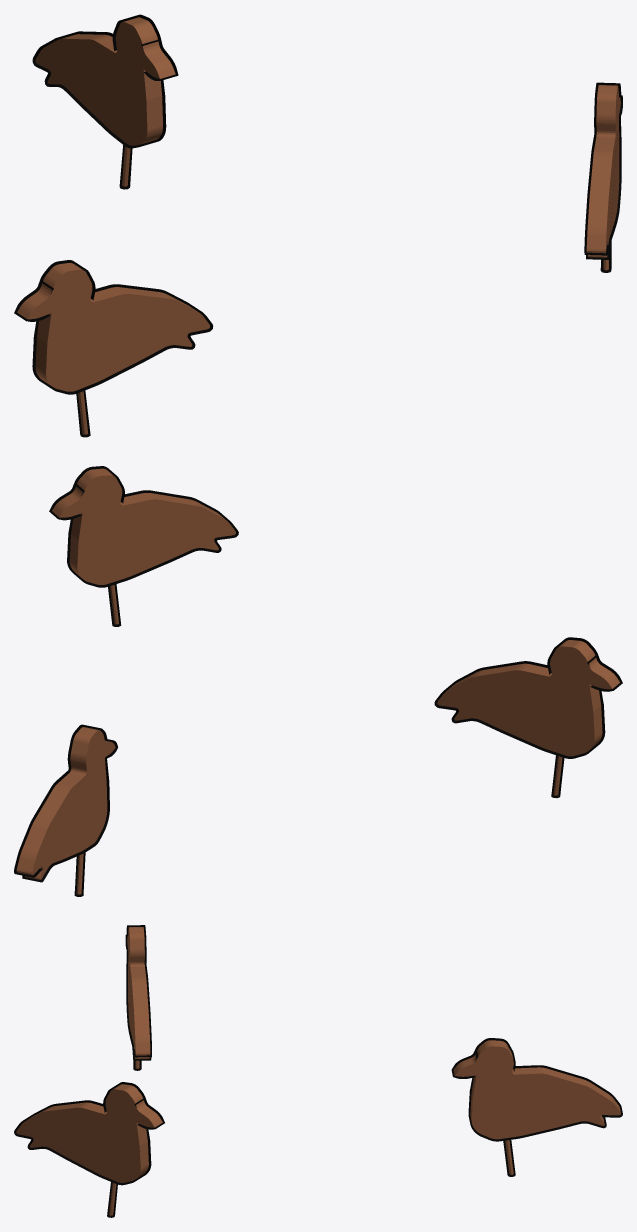
Rendered from sottdae02.glb.
3 renders of one model, top to bottom at view 1: azimuth 30°, elevation 25°; view 2: azimuth 150°, elevation 25°; view 3: azimuth 270°, elevation 25°, orthographic. The views are drawn at different scales.
Visible parts, largest first — view 1: sottdae01; view 2: sottdae01; view 3: sottdae01.
Part boxes in pixels (x1,y1,x2,y2): sottdae01: [14, 14, 622, 437]; sottdae01: [14, 466, 622, 896]; sottdae01: [14, 925, 622, 1217].
Size of the model in its own units: 5.38 by 1.92 by 6.
